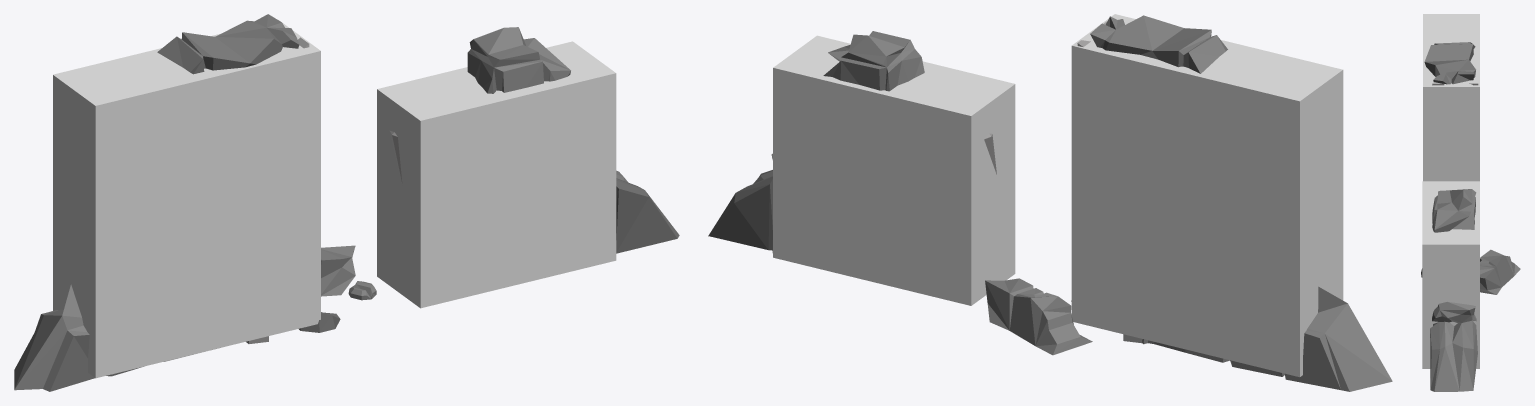
The model's file is ruins_stone_wall_1.glb.
3 renders of one model, left to right at view 1: azimuth 30°, elevation 25°; view 2: azimuth 150°, elevation 25°; view 3: azimuth 270°, elevation 25°, orthographic. The views are drawn at different scales.
Parts seen in each view (by area): view 1: Cube, Cube.001, ruin_15; view 2: Cube, Cube.001, ruin_15; view 3: ruin_15, Cube, Cube.001.
Part boxes in pixels (<box>): Cube: <box>53,20,320,378</box>; Cube.001: <box>377,41,616,308</box>; ruin_15: <box>14,14,679,391</box>; Cube: <box>1071,14,1343,377</box>; Cube.001: <box>773,35,1015,305</box>; ruin_15: <box>708,15,1392,391</box>; ruin_15: <box>1421,42,1520,391</box>; Cube: <box>1423,14,1479,181</box>; Cube.001: <box>1422,181,1479,368</box>.
Size of the model in its own units: 5.84 by 2.52 by 1.16.
Materials: 1 (1 with a texture image).
